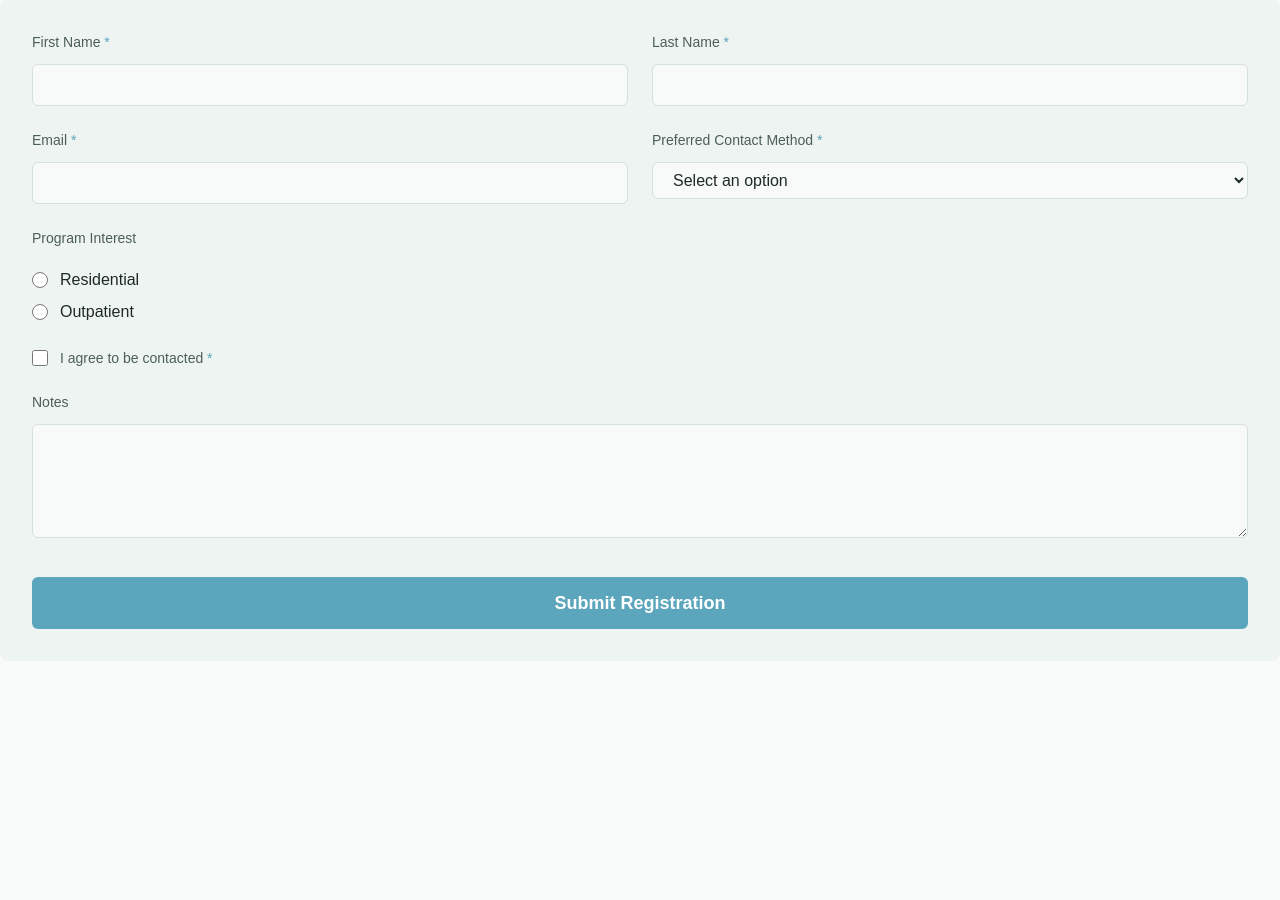
Scenario: RegistrationForm › submits the form and shows success message
This screenshot has width=1280, height=900.
In the field labelled "First Name *": (330, 85) [32,64,628,106], type "John"
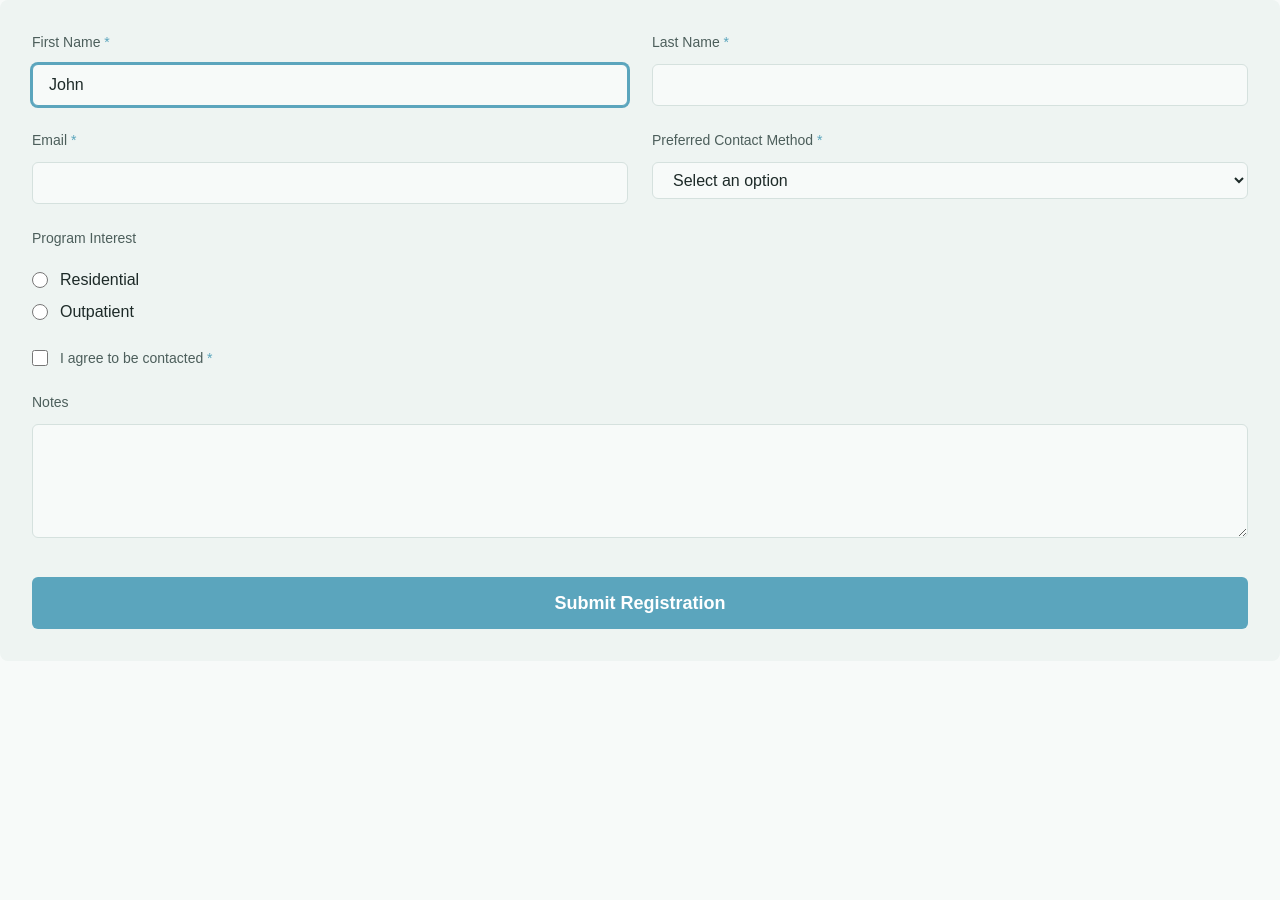
In the field labelled "Last Name *": (950, 85) [652,64,1248,106], type "Doe"
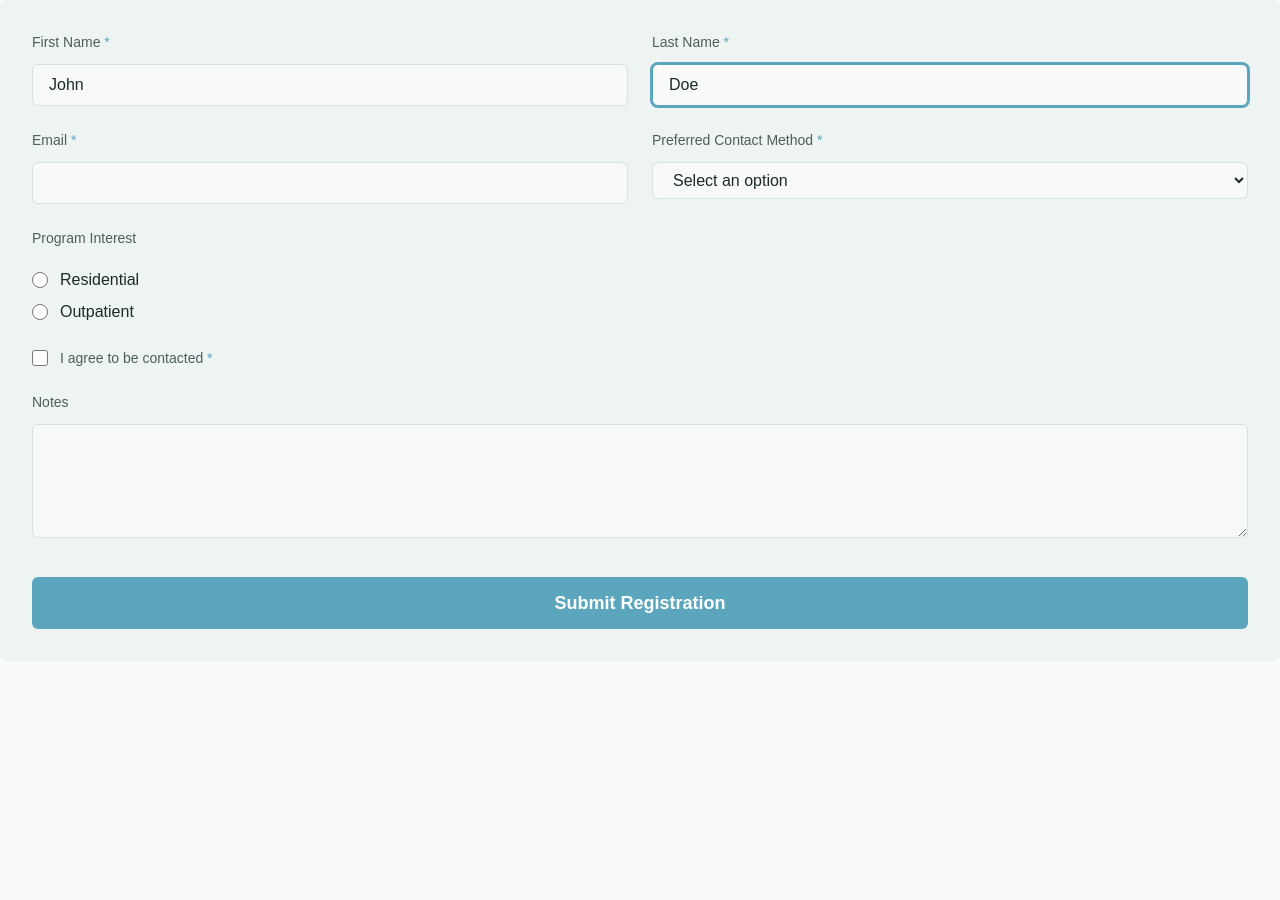
In the field labelled "Email *": (330, 183) [32,162,628,204], type "john.doe@example.com"
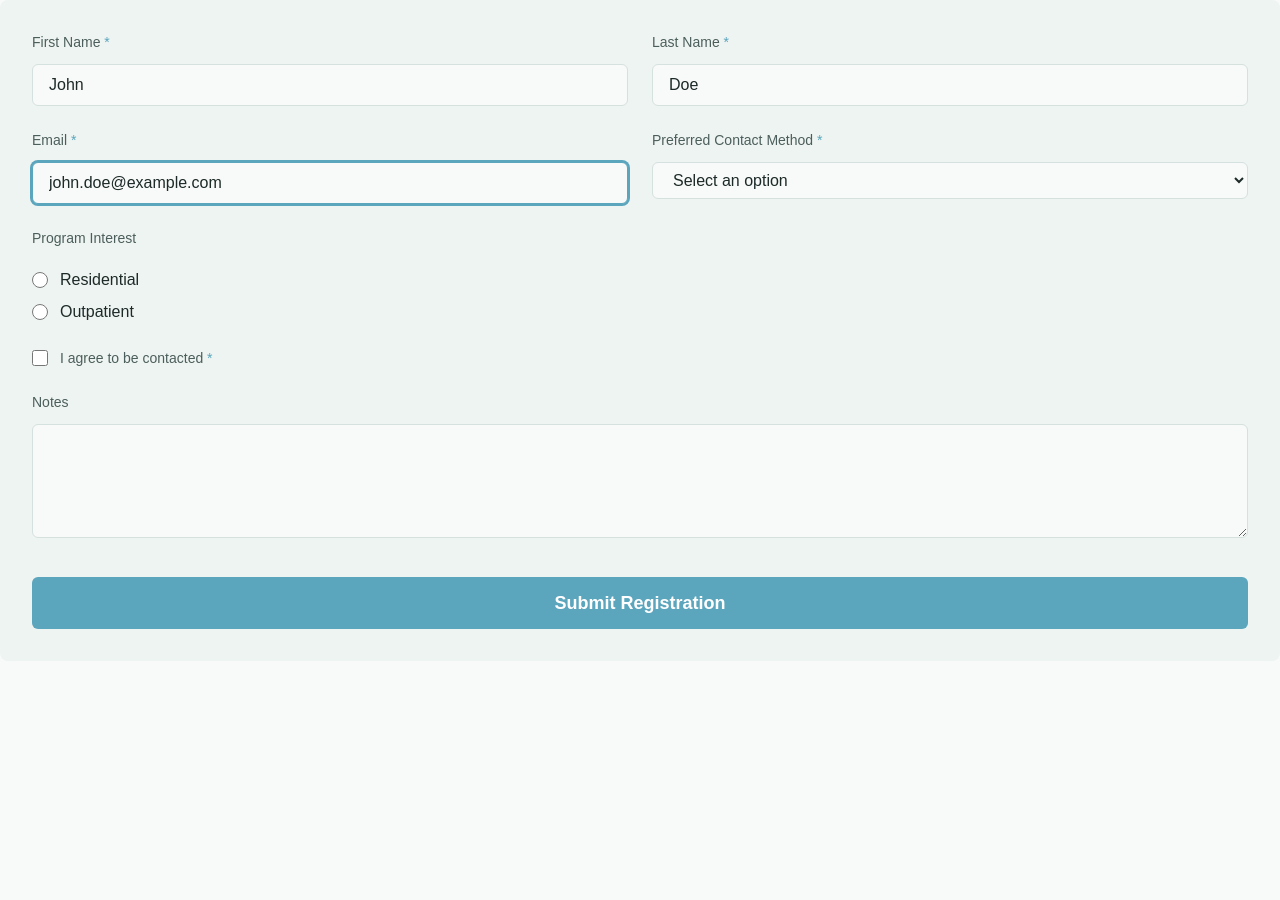
Select "Phone" in the dropdown labelled "Preferred Contact Method *": (950, 180) [652,162,1248,199]
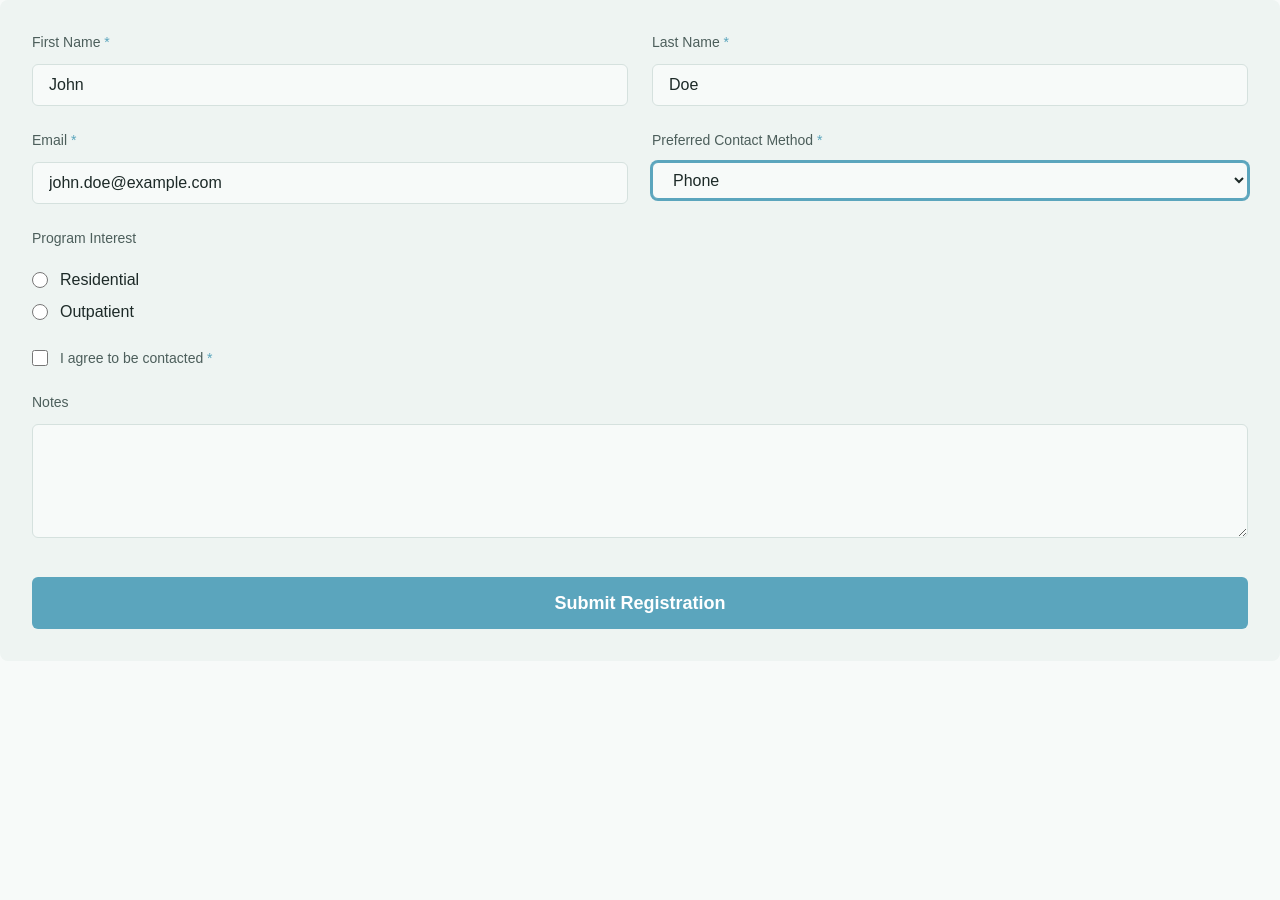
Click the checkbox labelled "I agree to be contacted *": (40, 358) [32,350,48,366]
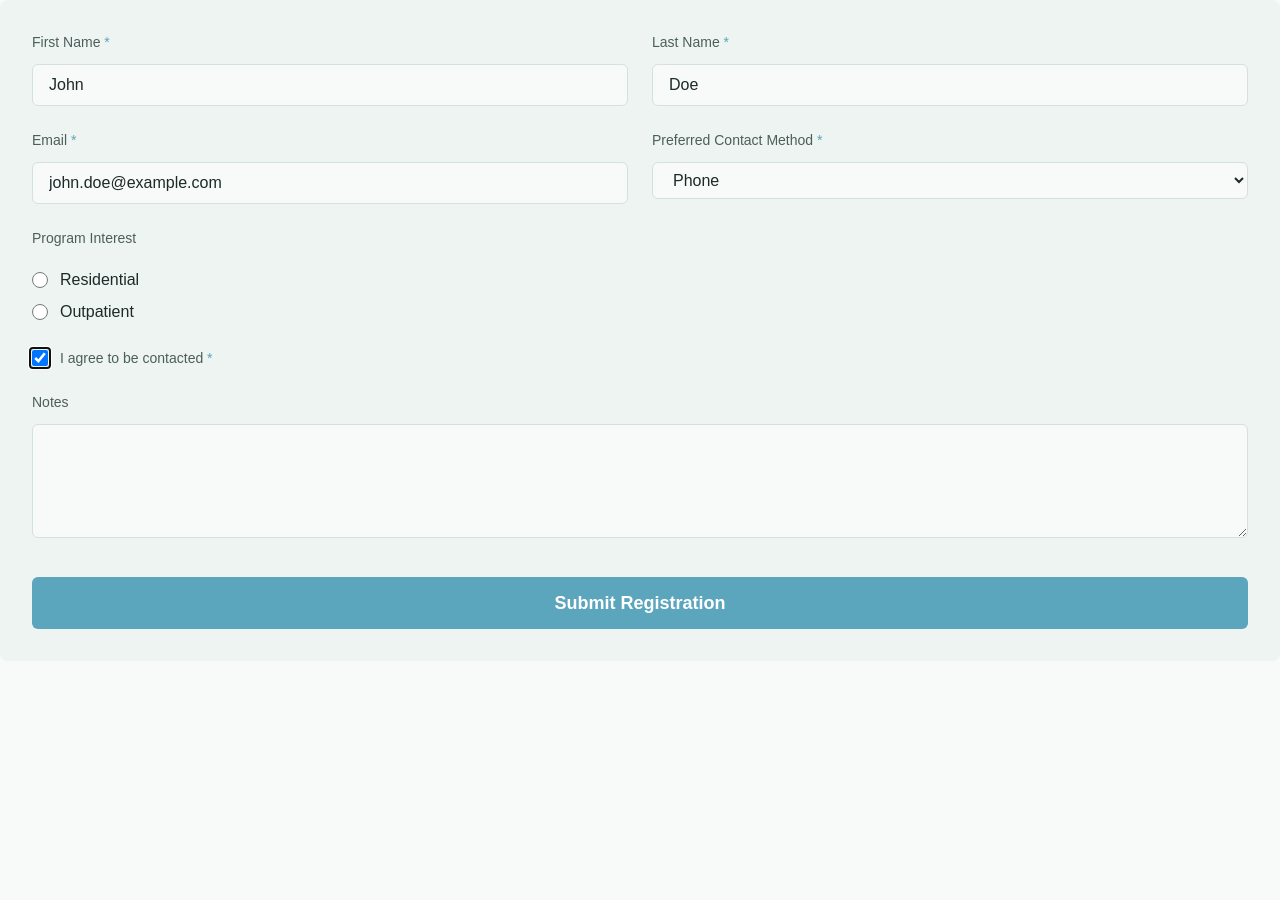
Click the button "Submit Registration": (640, 603) [32,577,1248,629]
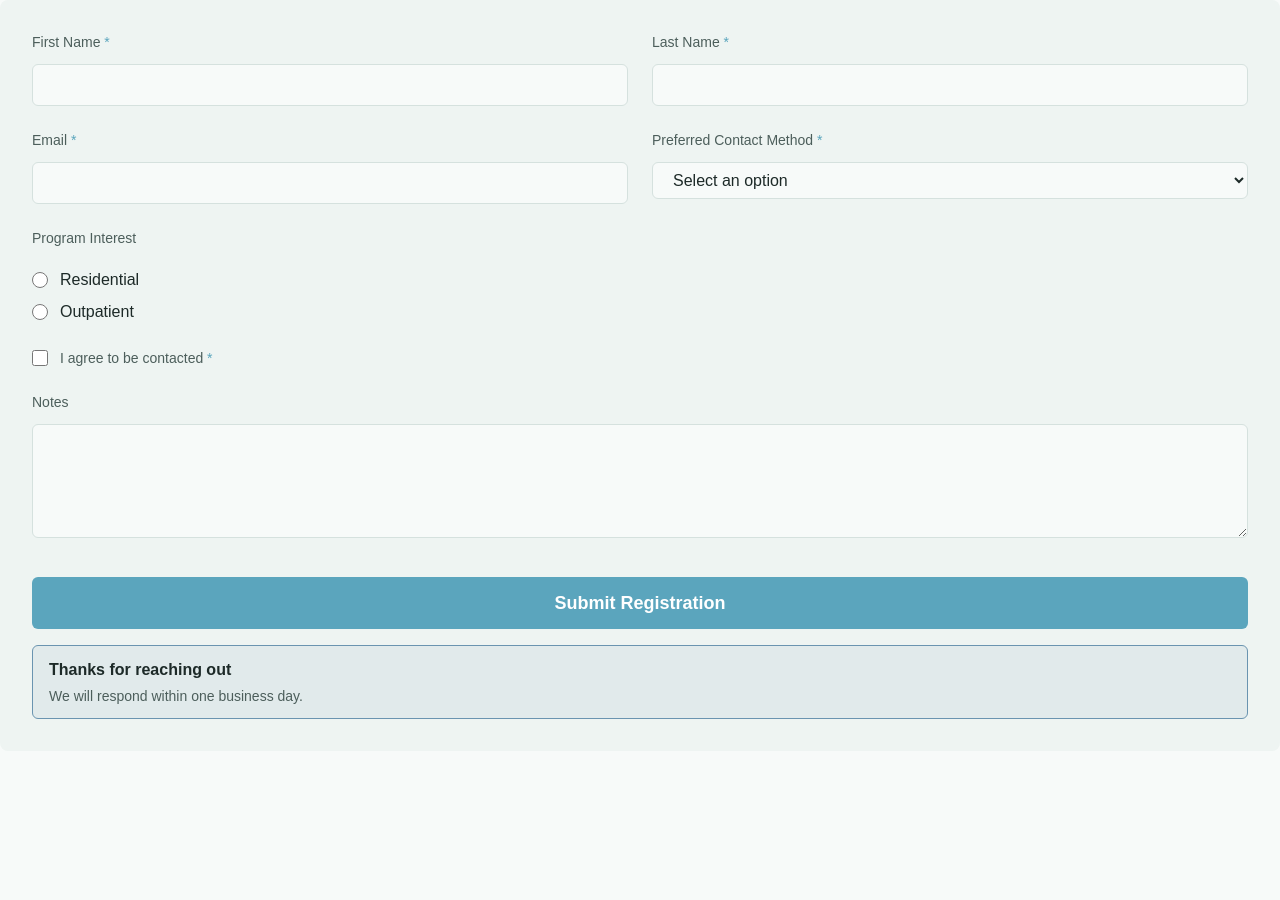
Check: the text "Thanks for reaching out" is shown, box [49,661,231,678]
Check: the text "We will respond within one business day." is shown, box [49,688,303,704]
Check: the field labelled "First Name *" is empty, box [32,64,628,106]
